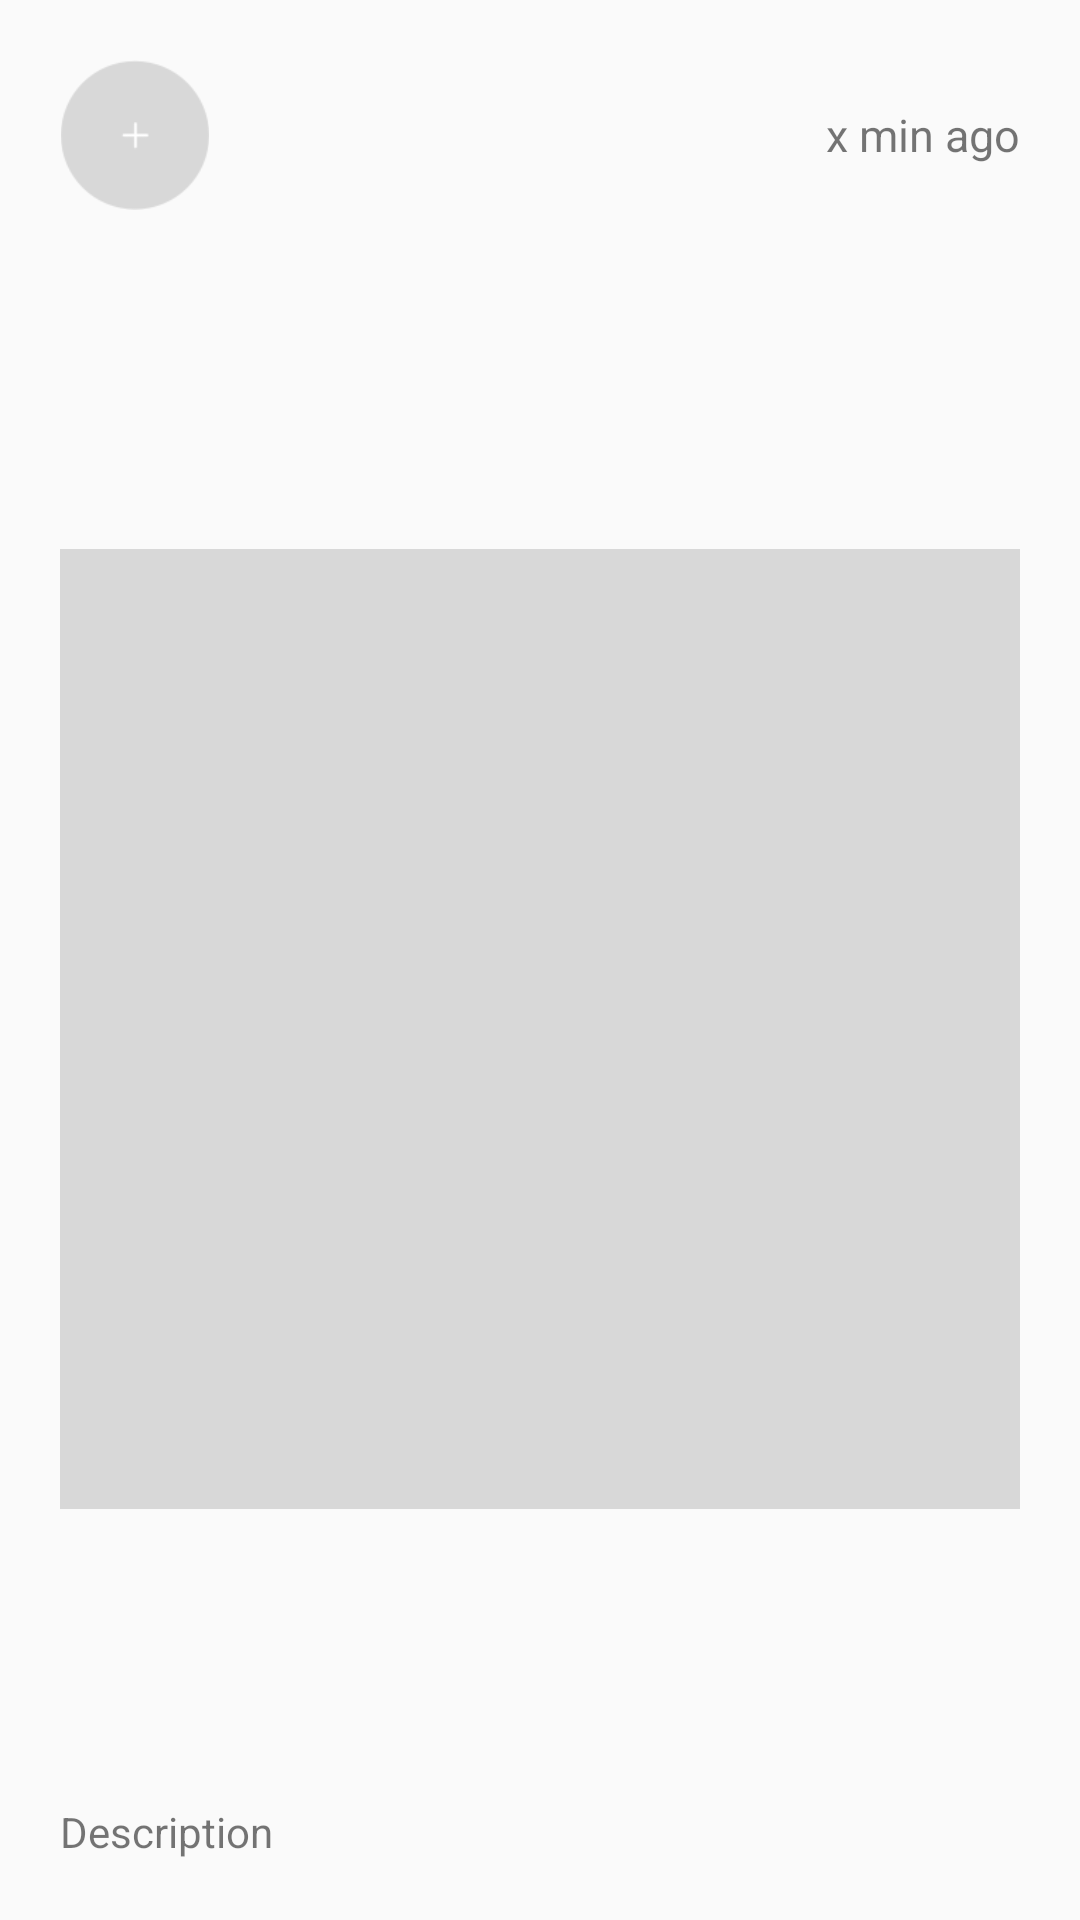

Icon bounding boxes for this 1080 × 1920 phone screenshot, format (x1, y1, x2, y2):
addimage: (61, 62, 209, 209)
